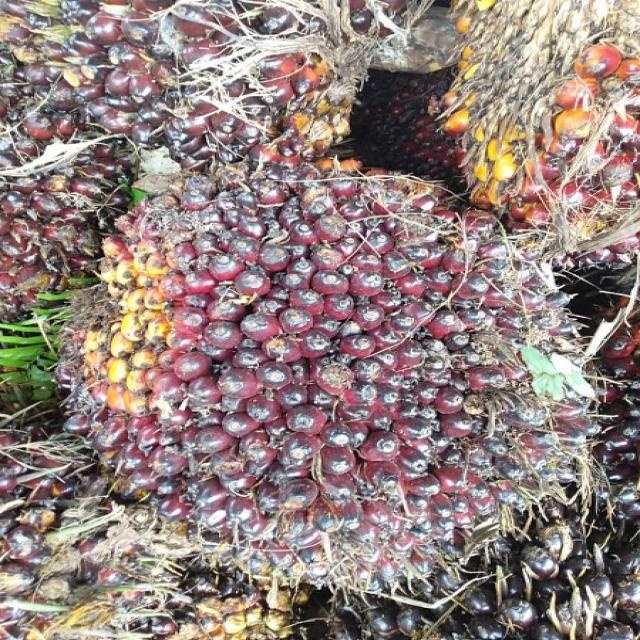fraksi 1: (59, 128, 595, 593)
